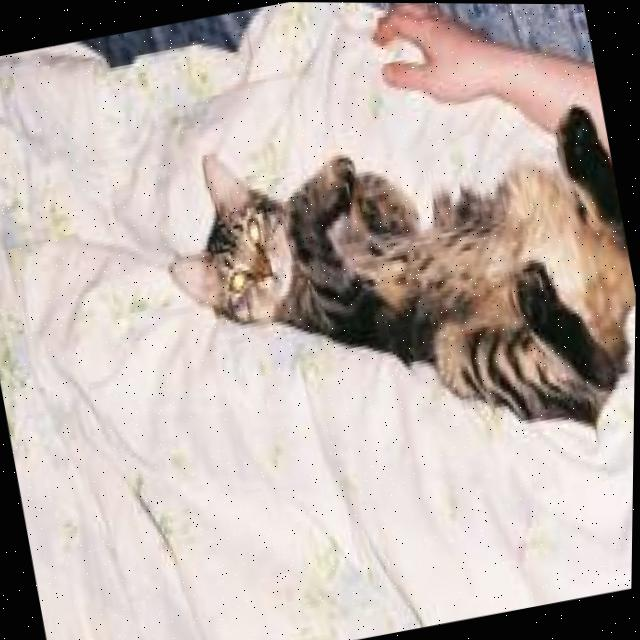Bengal: (126, 1, 640, 503)
